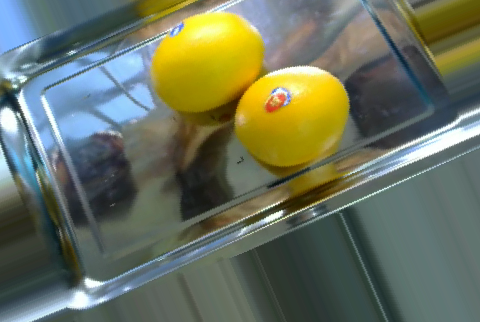Orange: (235, 64, 349, 166), (150, 11, 262, 112)
